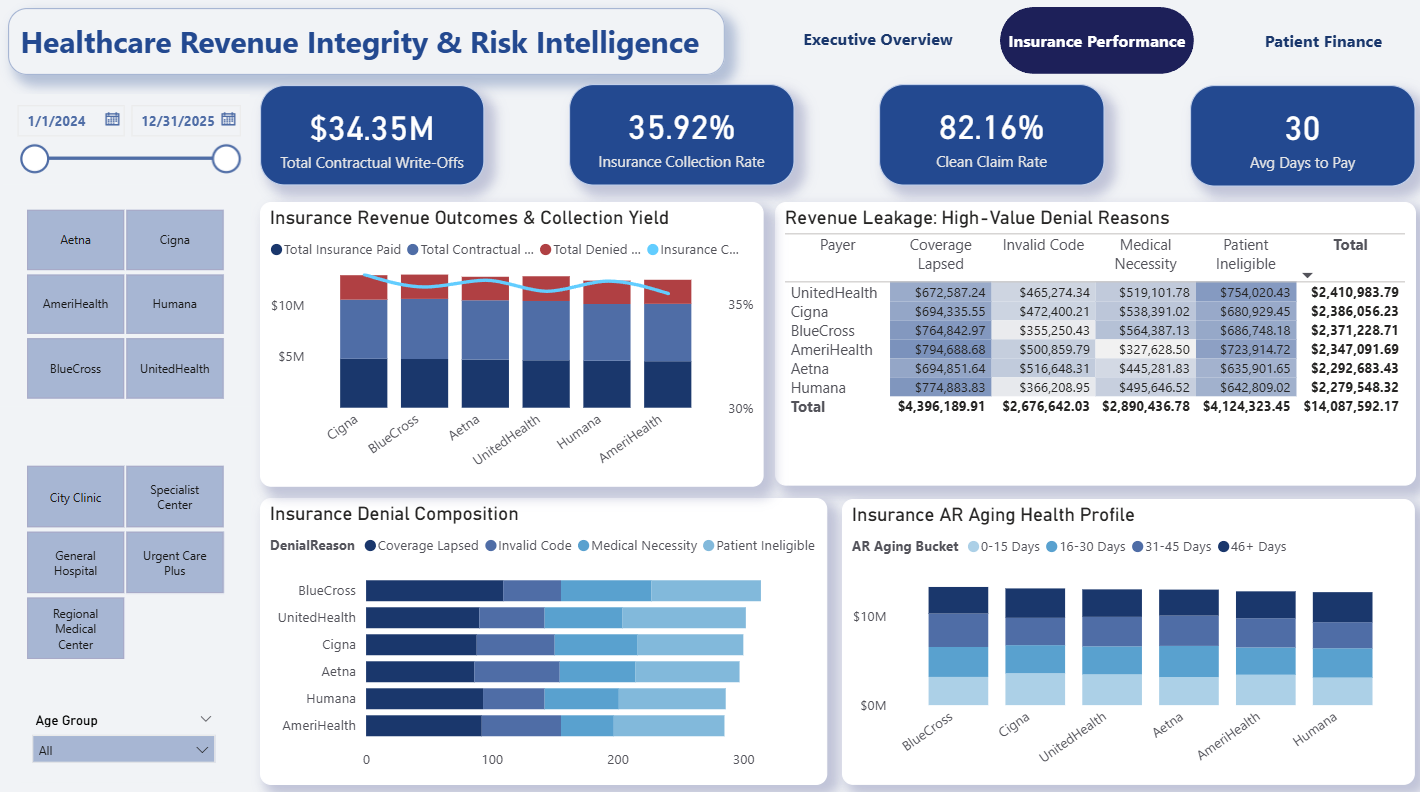

This screenshot's page, from the dashboard's own definition file:
{"tool":"powerbi","page":{"name":"Insurance Performance","canvas":[1280,720],"ordinal":1},"visuals":[{"type":"actionButton","box":[701.9,11,172.4,59.9],"z":0},{"type":"actionButton","box":[897.6,12.2,173.6,59.9],"z":1000},{"type":"actionButton","box":[1093.2,13.5,187.1,58.7],"z":2000},{"type":"textbox","box":[9,13.4,642,60],"z":3000},{"type":"card","fields":{"Values":["_Measures.Clean Claim Rate"]},"box":[789.2,81.8,201.6,90.6],"z":4000},{"type":"card","fields":{"Values":["_Measures.Insurance Collection Rate"]},"box":[511.2,81.5,201.6,90.6],"z":5000},{"type":"card","fields":{"Values":["_Measures.Avg Processing Time"]},"box":[1067.2,82.1,201.6,90.6],"z":6000},{"type":"slicer","title":"Payer","fields":{"Values":["Fact_Claims.Payer"]},"box":[0,187.2,225.7,182.7],"z":7000},{"type":"slicer","title":"Provider","fields":{"Values":["Fact_Claims.Provider"]},"box":[0,416.4,225.7,187.2],"z":8000},{"type":"slicer","title":"Age Group","fields":{"Values":["Dim_Patients.Age Group"]},"box":[20.6,639.4,183.6,68.1],"z":9000},{"type":"pivotTable","title":"Revenue Leakage: High-Value Denial Reasons","fields":{"Rows":["Fact_Claims.Payer"],"Columns":["Fact_Claims.Denial_Reason"],"Values":["_Measures.Revenue Leakage"]},"box":[694,187.2,567.8,254.3],"z":10000},{"type":"barChart","title":"Insurance Denial Composition","fields":{"Series":["Fact_Claims.Denial_Reason"],"Category":["Fact_Claims.Payer"],"Y":["_Measures.Denial Count"]},"box":[234.2,452.1,508.1,256.6],"z":11000},{"type":"columnChart","title":"Insurance AR Aging Health Profile","fields":{"Category":["Fact_Claims.Payer"],"Series":["Fact_Claims.AR Aging Bucket"],"Y":["_Measures.Total Billed"]},"box":[755.6,453.1,513.2,255.6],"z":12000},{"type":"slicer","fields":{"Values":["Fact_Claims.Service_Date"]},"box":[4.5,90.4,221.2,81.5],"z":13000},{"type":"card","fields":{"Values":["_Measures.Total Contractual Write-Offs"]},"box":[234.2,82.5,200.6,89.6],"z":14000},{"type":"lineStackedColumnComboChart","title":"Insurance Revenue Outcomes & Collection Yield","fields":{"Category":["Fact_Claims.Payer"],"Y":["_Measures.Total Insurance Paid","_Measures.Total Contractual Write-Offs","_Measures.Total Denied Charges"],"Y2":["_Measures.Insurance Collection Rate"]},"box":[234.6,187.2,451.3,255.2],"z":15000}]}

Visuals, with their boxes in screenshot pixels (x1, y1, x2, y2), scaled from the page's 1280x720 canvas onto the 1420x792 screenshot:
actionButton: detection(779, 12, 970, 78)
actionButton: detection(996, 13, 1188, 79)
actionButton: detection(1213, 15, 1419, 79)
textbox: detection(10, 15, 722, 81)
card - _Measures.Clean Claim Rate: detection(876, 90, 1099, 190)
card - _Measures.Insurance Collection Rate: detection(567, 90, 791, 189)
card - _Measures.Avg Processing Time: detection(1184, 90, 1408, 190)
"Payer" slicer: detection(0, 206, 250, 407)
"Provider" slicer: detection(0, 458, 250, 664)
"Age Group" slicer: detection(23, 703, 227, 778)
"Revenue Leakage: High-Value Denial Reasons" pivotTable: detection(770, 206, 1400, 486)
"Insurance Denial Composition" barChart: detection(260, 497, 823, 780)
"Insurance AR Aging Health Profile" columnChart: detection(838, 498, 1408, 780)
slicer - Fact_Claims.Service_Date: detection(5, 99, 250, 189)
card - _Measures.Total Contractual Write-Offs: detection(260, 91, 482, 189)
"Insurance Revenue Outcomes & Collection Yield" lineStackedColumnComboChart: detection(260, 206, 761, 487)
